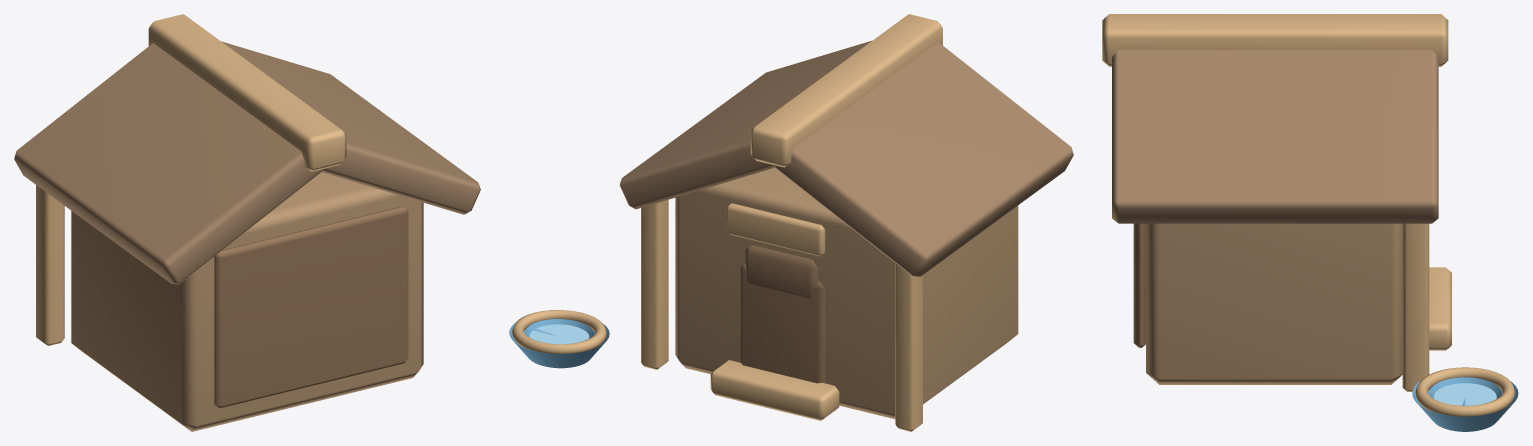
The model's file is DogHouse.glb.
3 views of the same model, side by side, from view 1: azimuth 30°, elevation 25°; view 2: azimuth 150°, elevation 25°; view 3: azimuth 270°, elevation 25° (orthographic). The views are drawn at different scales.
Visible parts, largest first — view 1: DogHouse_Roof_Left, DogHouse_Walls, DogHouse_BackShadow, DogHouse_Roof_Right, DogHouse_RidgeCap, DogHouse_Trim_Left; view 2: DogHouse_Walls, DogHouse_Roof_Left, DogHouse_Roof_Right, DogHouse_RidgeCap, DogHouse_Door, DogHouse_Trim_Right, DogHouse_Threshold, DogHouse_Trim_Left, DogHouse_NamePlate, DogHouse_DoorTop, DogHouse_Bowl_Rim, DogHouse_Bowl (+1 smaller); view 3: DogHouse_Roof_Right, DogHouse_Walls, DogHouse_RidgeCap, DogHouse_Trim_Right, DogHouse_Bowl_Rim, DogHouse_Threshold, DogHouse_Bowl, DogHouse_BackShadow, DogHouse_Bowl_Water.
Boxes of the visible parts, bbox=[...] form: DogHouse_Roof_Left: bbox=[14, 43, 323, 284]; DogHouse_Walls: bbox=[71, 172, 423, 431]; DogHouse_BackShadow: bbox=[214, 206, 408, 408]; DogHouse_Roof_Right: bbox=[221, 41, 480, 214]; DogHouse_RidgeCap: bbox=[148, 14, 346, 171]; DogHouse_Trim_Left: bbox=[36, 185, 64, 345]; DogHouse_Walls: bbox=[675, 168, 1018, 419]; DogHouse_Roof_Left: bbox=[772, 42, 1073, 277]; DogHouse_Roof_Right: bbox=[619, 40, 871, 209]; DogHouse_RidgeCap: bbox=[750, 14, 942, 167]; DogHouse_Door: bbox=[740, 263, 825, 383]; DogHouse_Trim_Right: bbox=[641, 200, 668, 369]; DogHouse_Threshold: bbox=[710, 360, 839, 420]; DogHouse_Trim_Left: bbox=[895, 263, 922, 431]; DogHouse_NamePlate: bbox=[726, 203, 825, 256]; DogHouse_DoorTop: bbox=[745, 245, 818, 298]; DogHouse_Bowl_Rim: bbox=[512, 310, 606, 354]; DogHouse_Bowl: bbox=[509, 319, 609, 368]; DogHouse_Roof_Right: bbox=[1112, 50, 1438, 223]; DogHouse_Walls: bbox=[1146, 223, 1402, 384]; DogHouse_RidgeCap: bbox=[1102, 14, 1448, 66]; DogHouse_Trim_Right: bbox=[1402, 223, 1429, 391]; DogHouse_Bowl_Rim: bbox=[1415, 367, 1515, 416]; DogHouse_Threshold: bbox=[1429, 267, 1451, 350]; DogHouse_Bowl: bbox=[1412, 377, 1518, 431]; DogHouse_BackShadow: bbox=[1133, 223, 1145, 347]; DogHouse_Bowl_Water: bbox=[1434, 383, 1496, 405].
Bounding box in the file's own units: 1.32 × 0.89 × 1.1.
